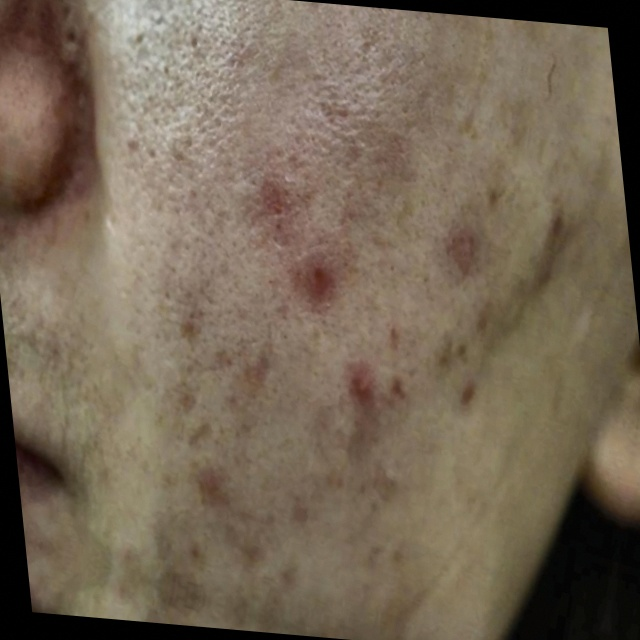comedone: (431, 203, 504, 280), (292, 236, 347, 318), (340, 344, 399, 418), (257, 164, 305, 229), (447, 374, 485, 412)
